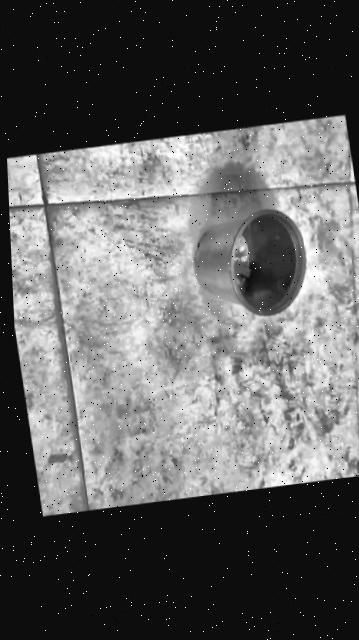pot: (186, 206, 312, 325)
